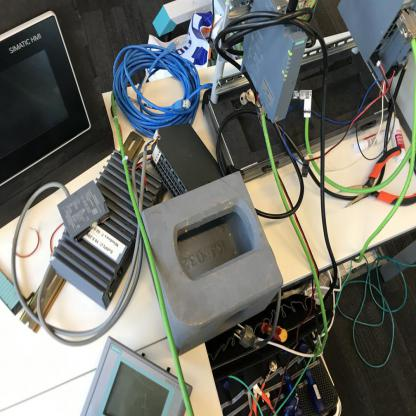CornerCasting: (140, 166, 285, 358)
